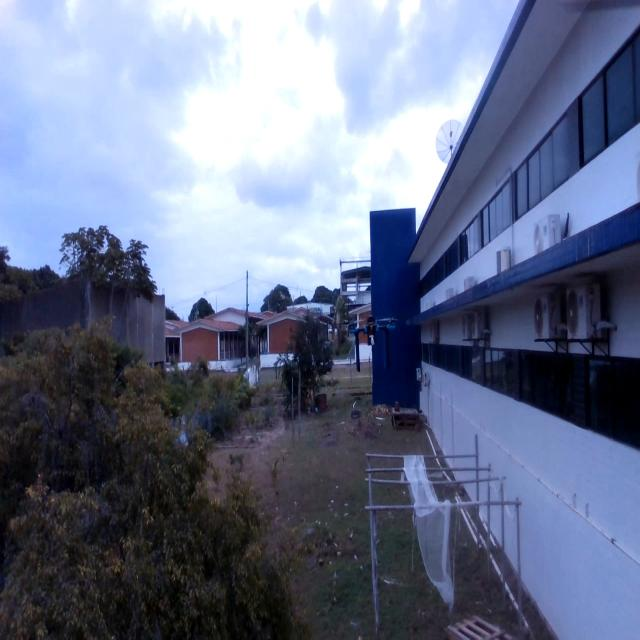-uav-: (348, 314, 397, 375)
